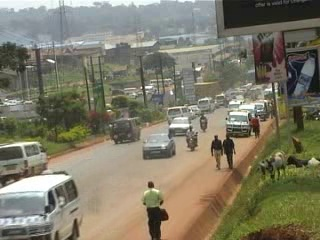Car: (139, 131, 179, 161), (168, 112, 194, 140), (190, 104, 205, 117), (183, 105, 195, 119), (211, 97, 219, 108)
Motorcycle: (184, 124, 199, 150), (198, 110, 209, 135)
